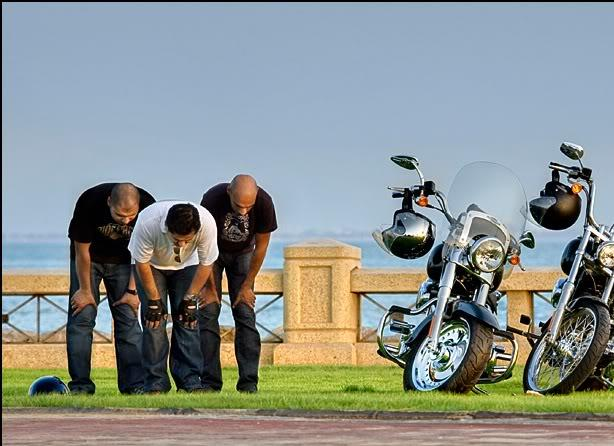ruku: (203, 151, 293, 398), (67, 160, 152, 399), (140, 195, 224, 391)
